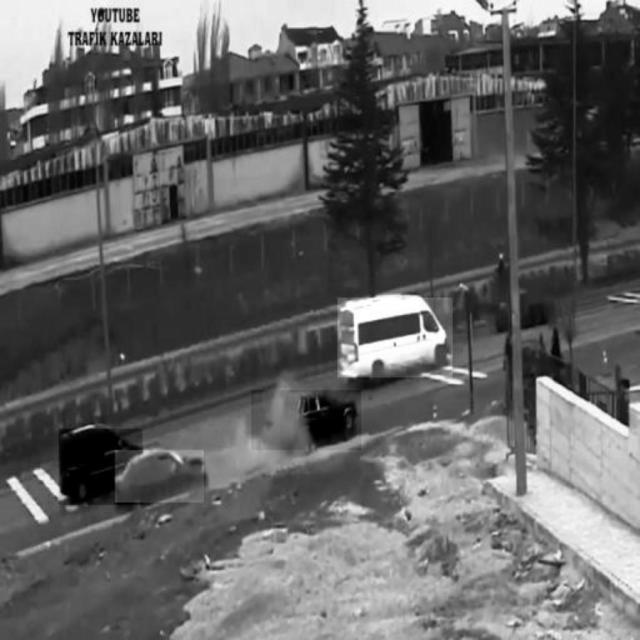vehicle: (337, 298, 451, 378), (252, 390, 362, 451), (60, 429, 143, 505), (116, 451, 204, 503)
